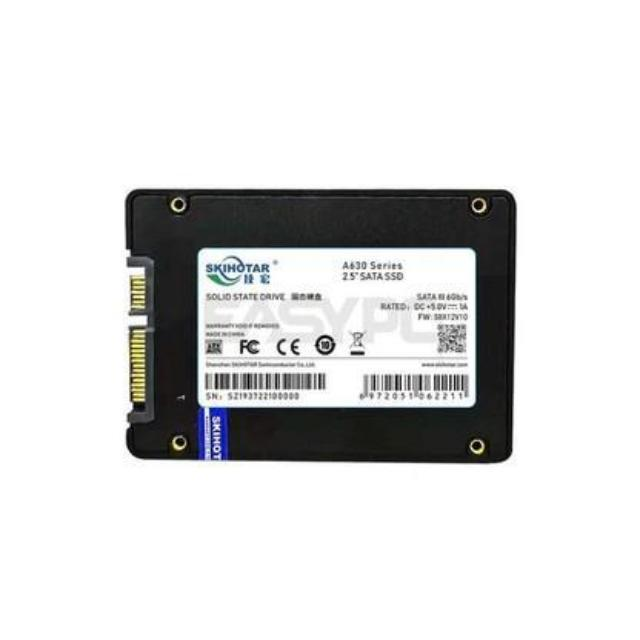DISK: (111, 179, 520, 476)
